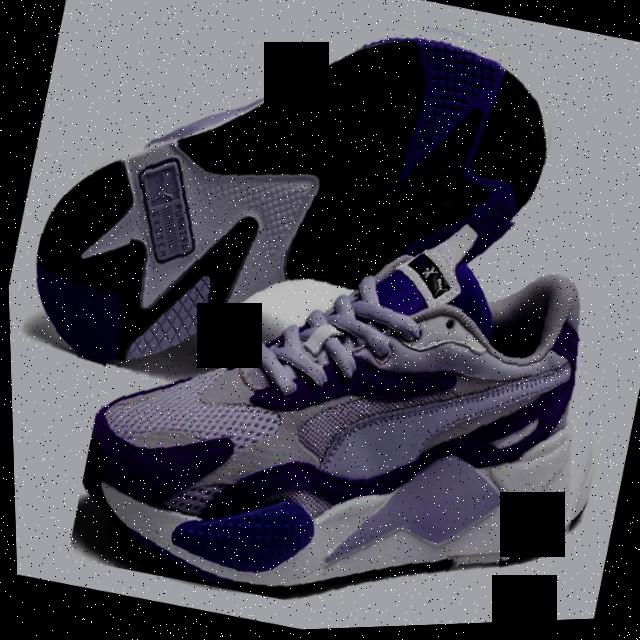shoe: (53, 116, 640, 639), (5, 0, 587, 470)
